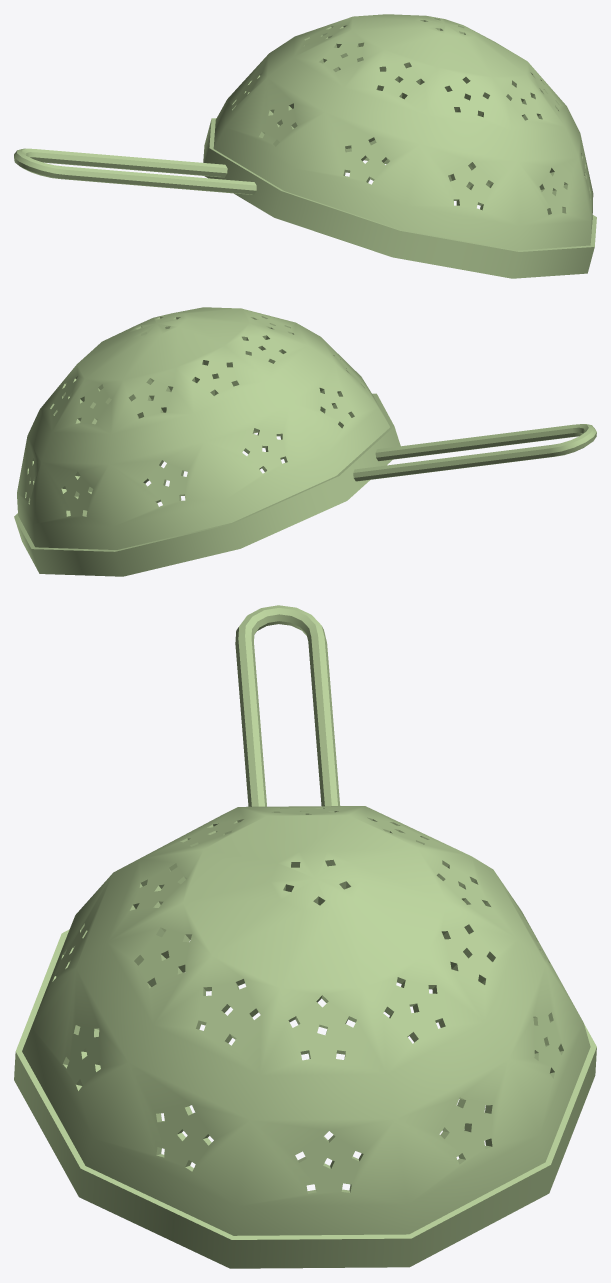
The model's file is Hat_73_03.fbx.
3 renders of one model, top to bottom at view 1: azimuth 30°, elevation 25°; view 2: azimuth 150°, elevation 25°; view 3: azimuth 270°, elevation 25°, orthographic. The views are drawn at different scales.
Parts seen in each view (by area): view 1: Hat_73_03; view 2: Hat_73_03; view 3: Hat_73_03.
Part boxes in pixels (<box>): Hat_73_03: <box>14,14,596,278</box>; Hat_73_03: <box>14,307,596,576</box>; Hat_73_03: <box>14,605,596,1268</box>.
Size of the model in its own units: 59.05 by 23.56 by 38.18.
